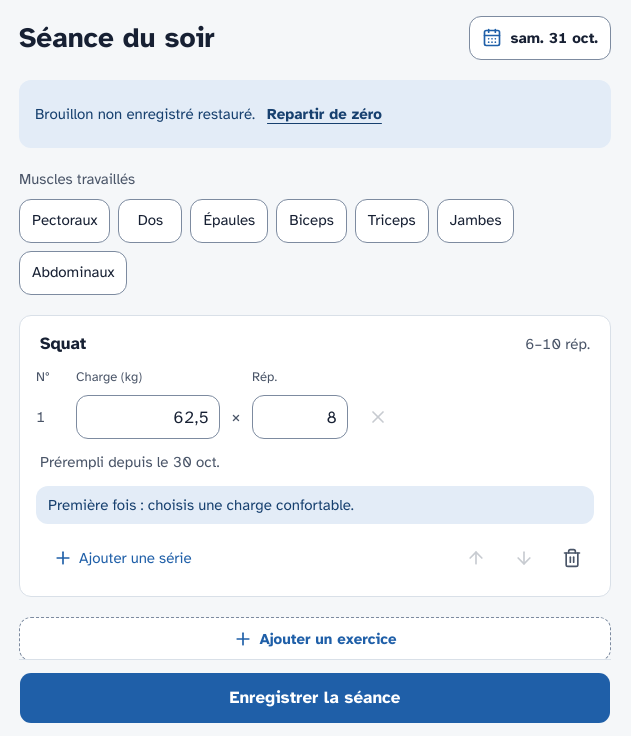
Test: WorkoutEditor › signale la série invalide sans appeler l'API
Replace the text in the field named "Charge (kg), série 1" with "6,2,5". click: (148, 417)
box: [76,395,220,439]
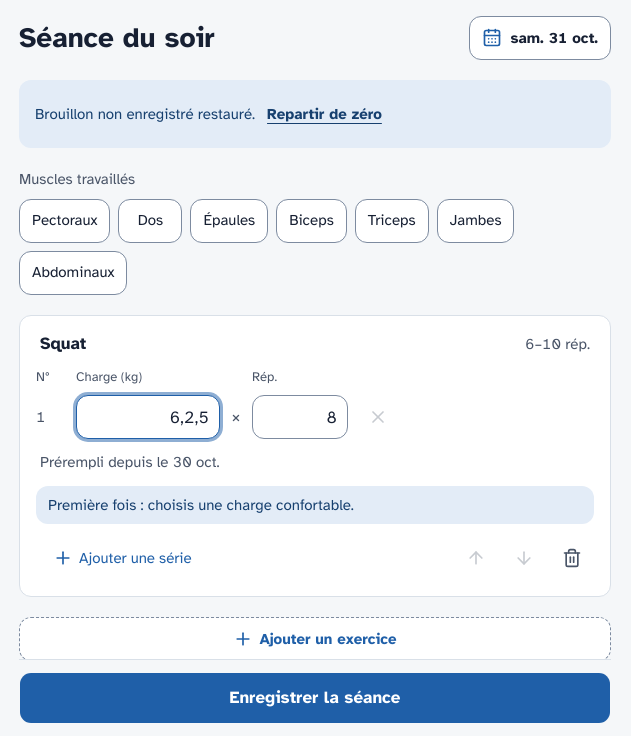
Click the button "Enregistrer la séance". click: (315, 698)
box: [19,672,611,724]
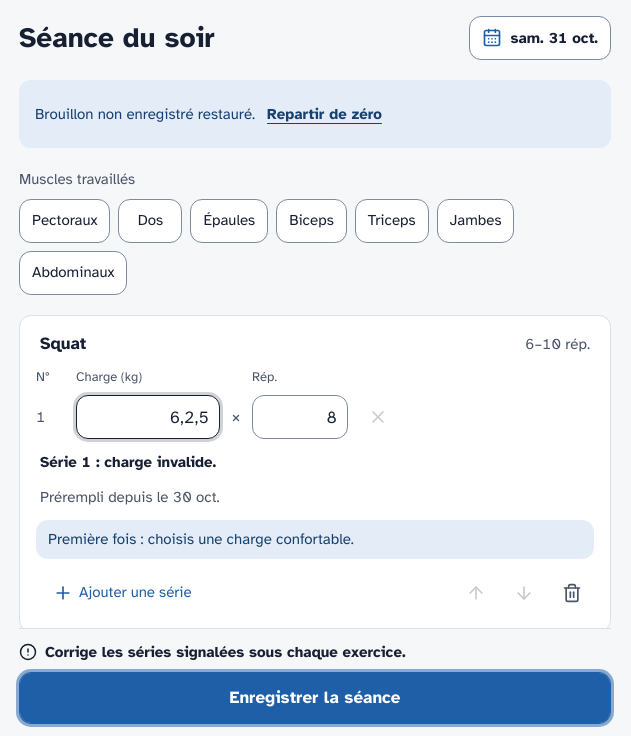
Expected: the list item "Série 1 : charge invalide." is shown, [40,453,216,471]
